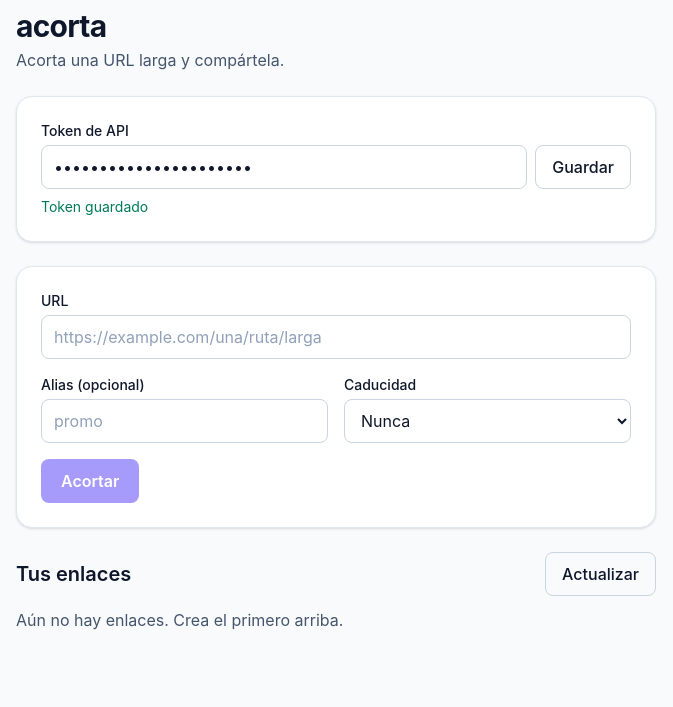
Test: autenticación › AUT-13: un 401 al crear con token guardado muestra el error tal cual, da el foco al token y no lo borra
Expected: the label "URL" is shown, top-left (41, 292), bottom-right (68, 309)
Type "https://example.com" into the field labelled "URL".
click(336, 337); type("https://example.com")  # box top-left (41, 315), bottom-right (631, 359)
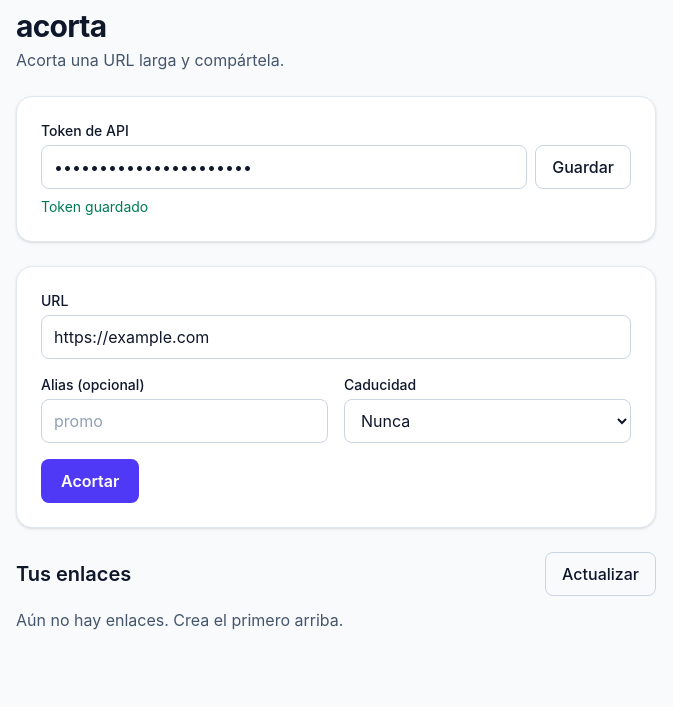
Click the submit button.
click(90, 481)  # box top-left (41, 459), bottom-right (139, 503)
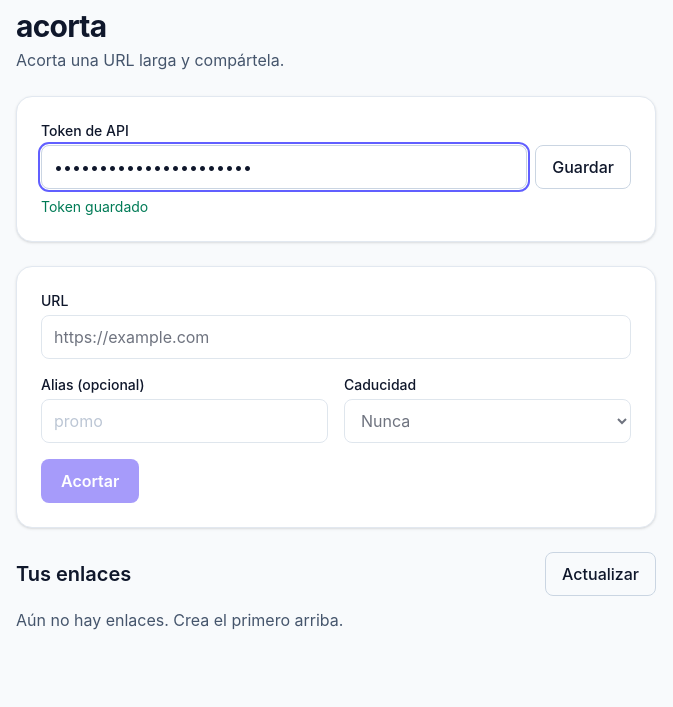
Submit the form, box top-left (41, 291), bottom-right (631, 503)
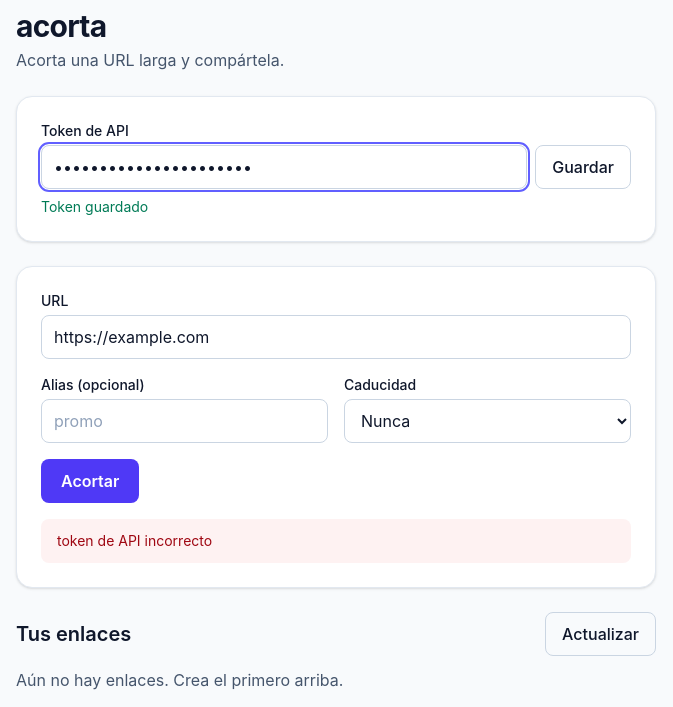
Expected: the label "Token de API" is shown, top-left (41, 122), bottom-right (129, 139)
Now the text "token de API incorrecto" is shown, box top-left (57, 532), bottom-right (212, 549)
